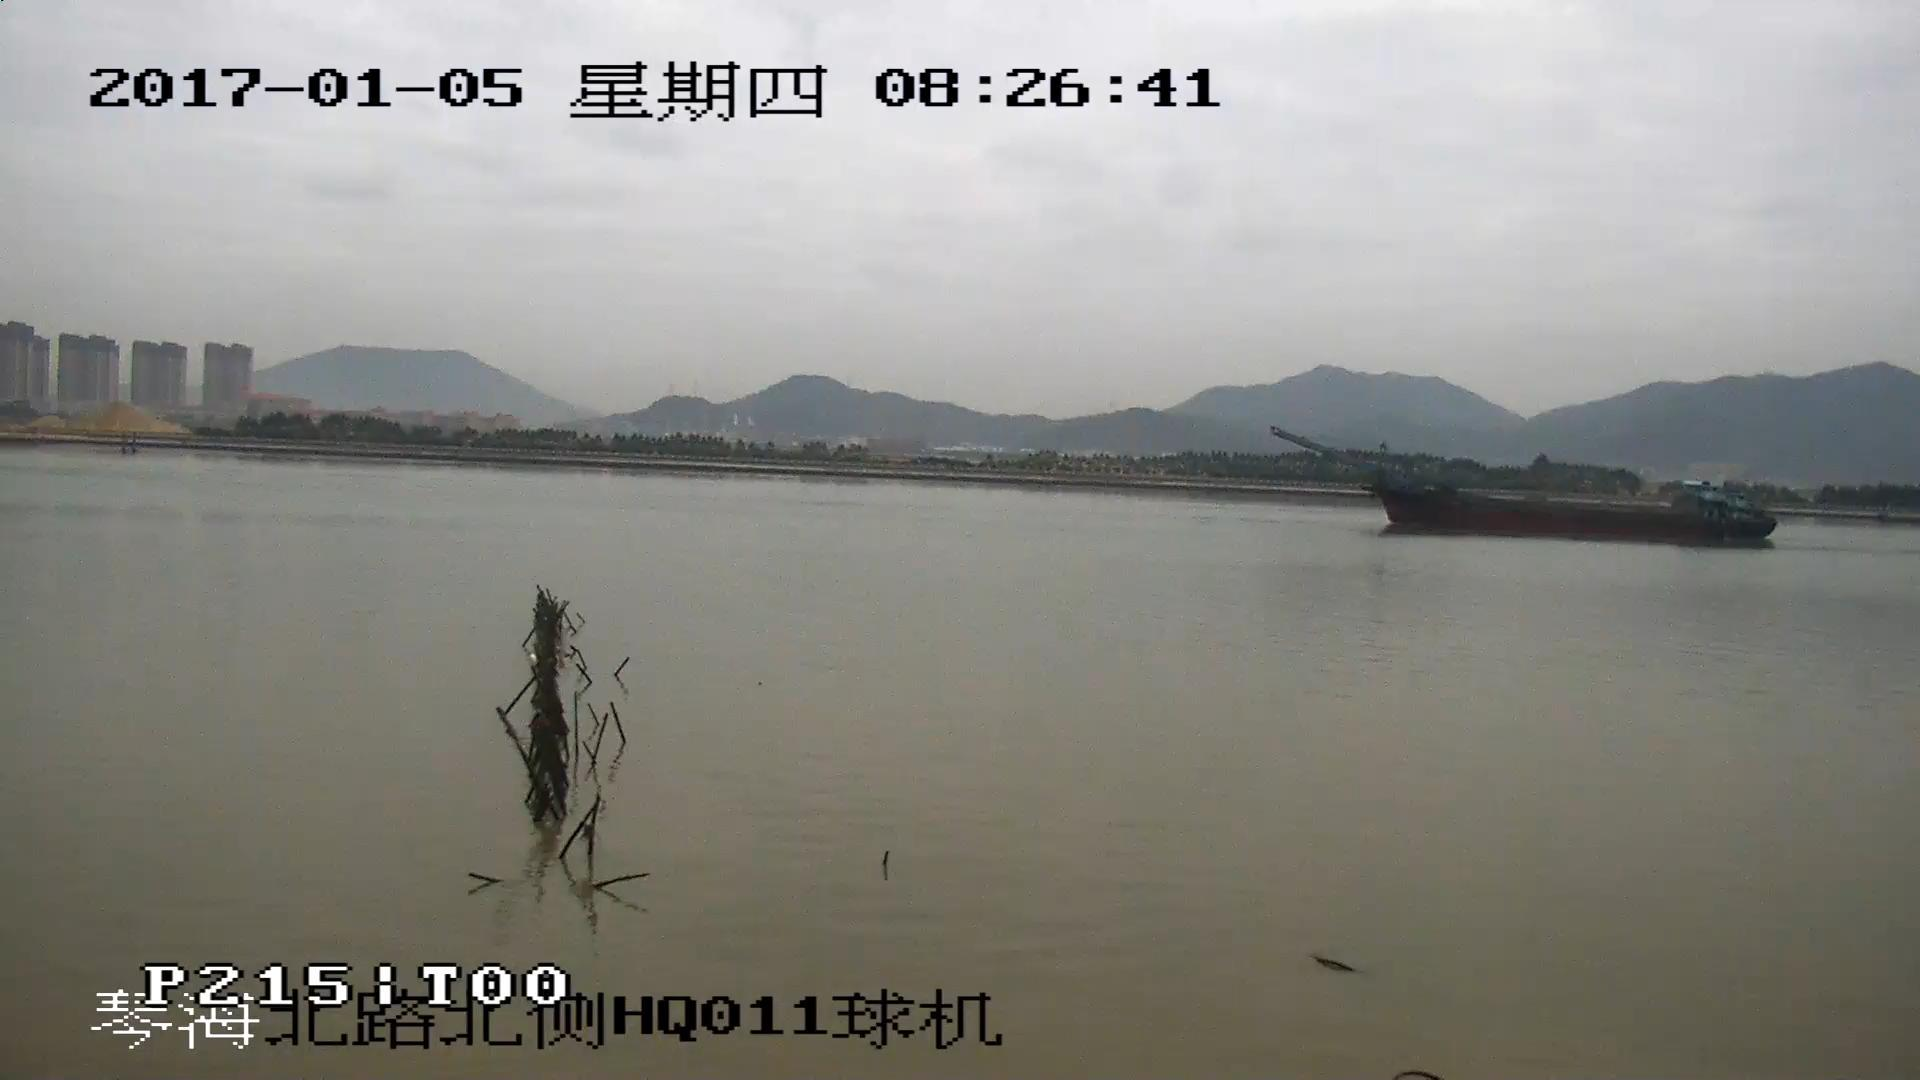Ship: (1274, 431, 1771, 545)
